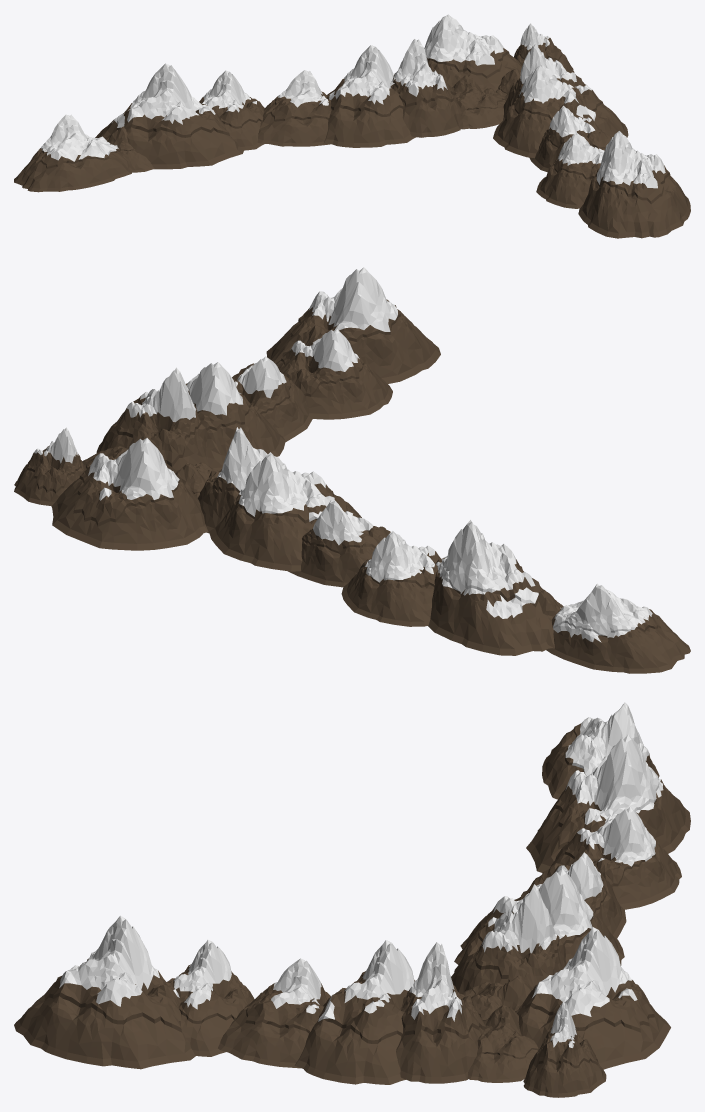
Rendered from angle mpountain with snow.fbx.
The picture shows the model from 3 angles, top to bottom: view 1: azimuth 30°, elevation 25°; view 2: azimuth 150°, elevation 25°; view 3: azimuth 270°, elevation 25°; orthographic projection. The views are drawn at different scales.
Visible parts, largest first — view 1: pasted__pasted__PP_Forest_Mountain_Moss_01_89; view 2: pasted__pasted__PP_Forest_Mountain_Moss_01_89; view 3: pasted__pasted__PP_Forest_Mountain_Moss_01_89.
Part boxes in pixels (x1,y1,x2,y2): pasted__pasted__PP_Forest_Mountain_Moss_01_89: (14,14,690,238); pasted__pasted__PP_Forest_Mountain_Moss_01_89: (14,267,690,673); pasted__pasted__PP_Forest_Mountain_Moss_01_89: (14,702,690,1097).
Size of the model in its own units: 112 by 16.59 by 88.96.
